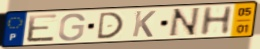D: (95, 11, 125, 41)
E: (25, 13, 59, 44)
G: (56, 13, 87, 43)
H: (198, 5, 236, 38)
K: (131, 10, 158, 38)
N: (166, 6, 202, 38)
